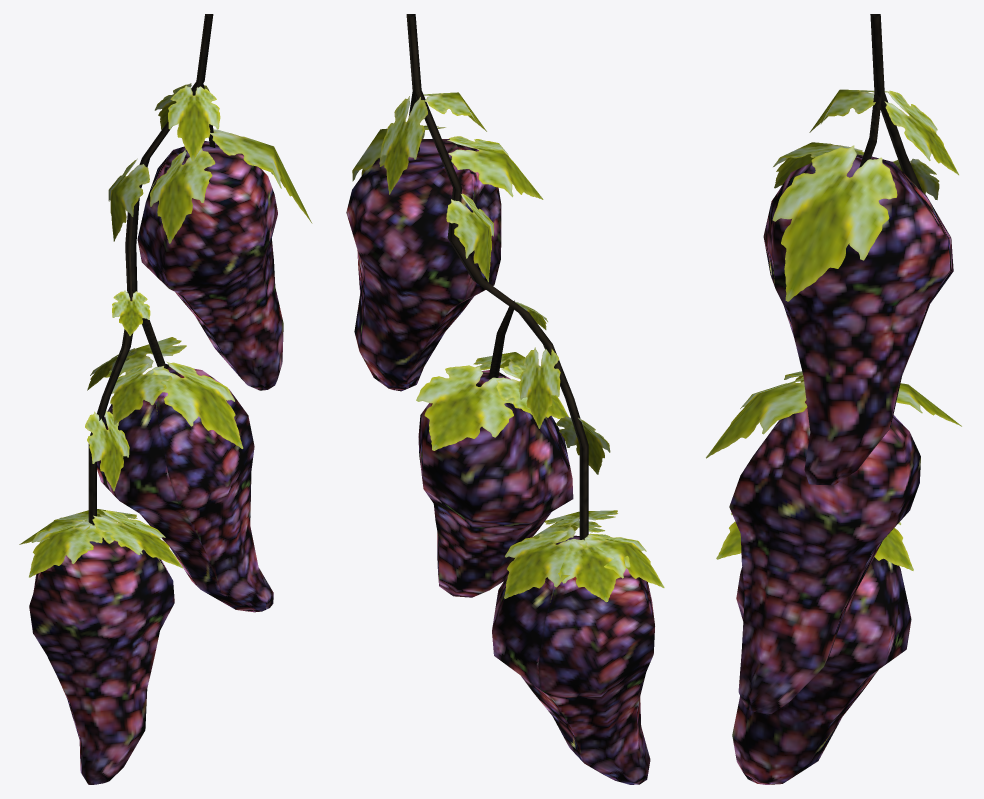
File: Model_Fruit_Grapes.fbx
3 renders of one model, left to right at view 1: azimuth 30°, elevation 25°; view 2: azimuth 150°, elevation 25°; view 3: azimuth 270°, elevation 25°, orthographic. The views are drawn at different scales.
Parts seen in each view (by area): view 1: Grapes; view 2: Grapes; view 3: Grapes.
Part boxes in pixels (box(x1,y1,x2,y2)): Grapes: box(19, 14, 312, 784); Grapes: box(346, 14, 664, 784); Grapes: box(706, 14, 961, 784).
Bounding box in the file's own units: 33.29 × 79.07 × 22.6.
